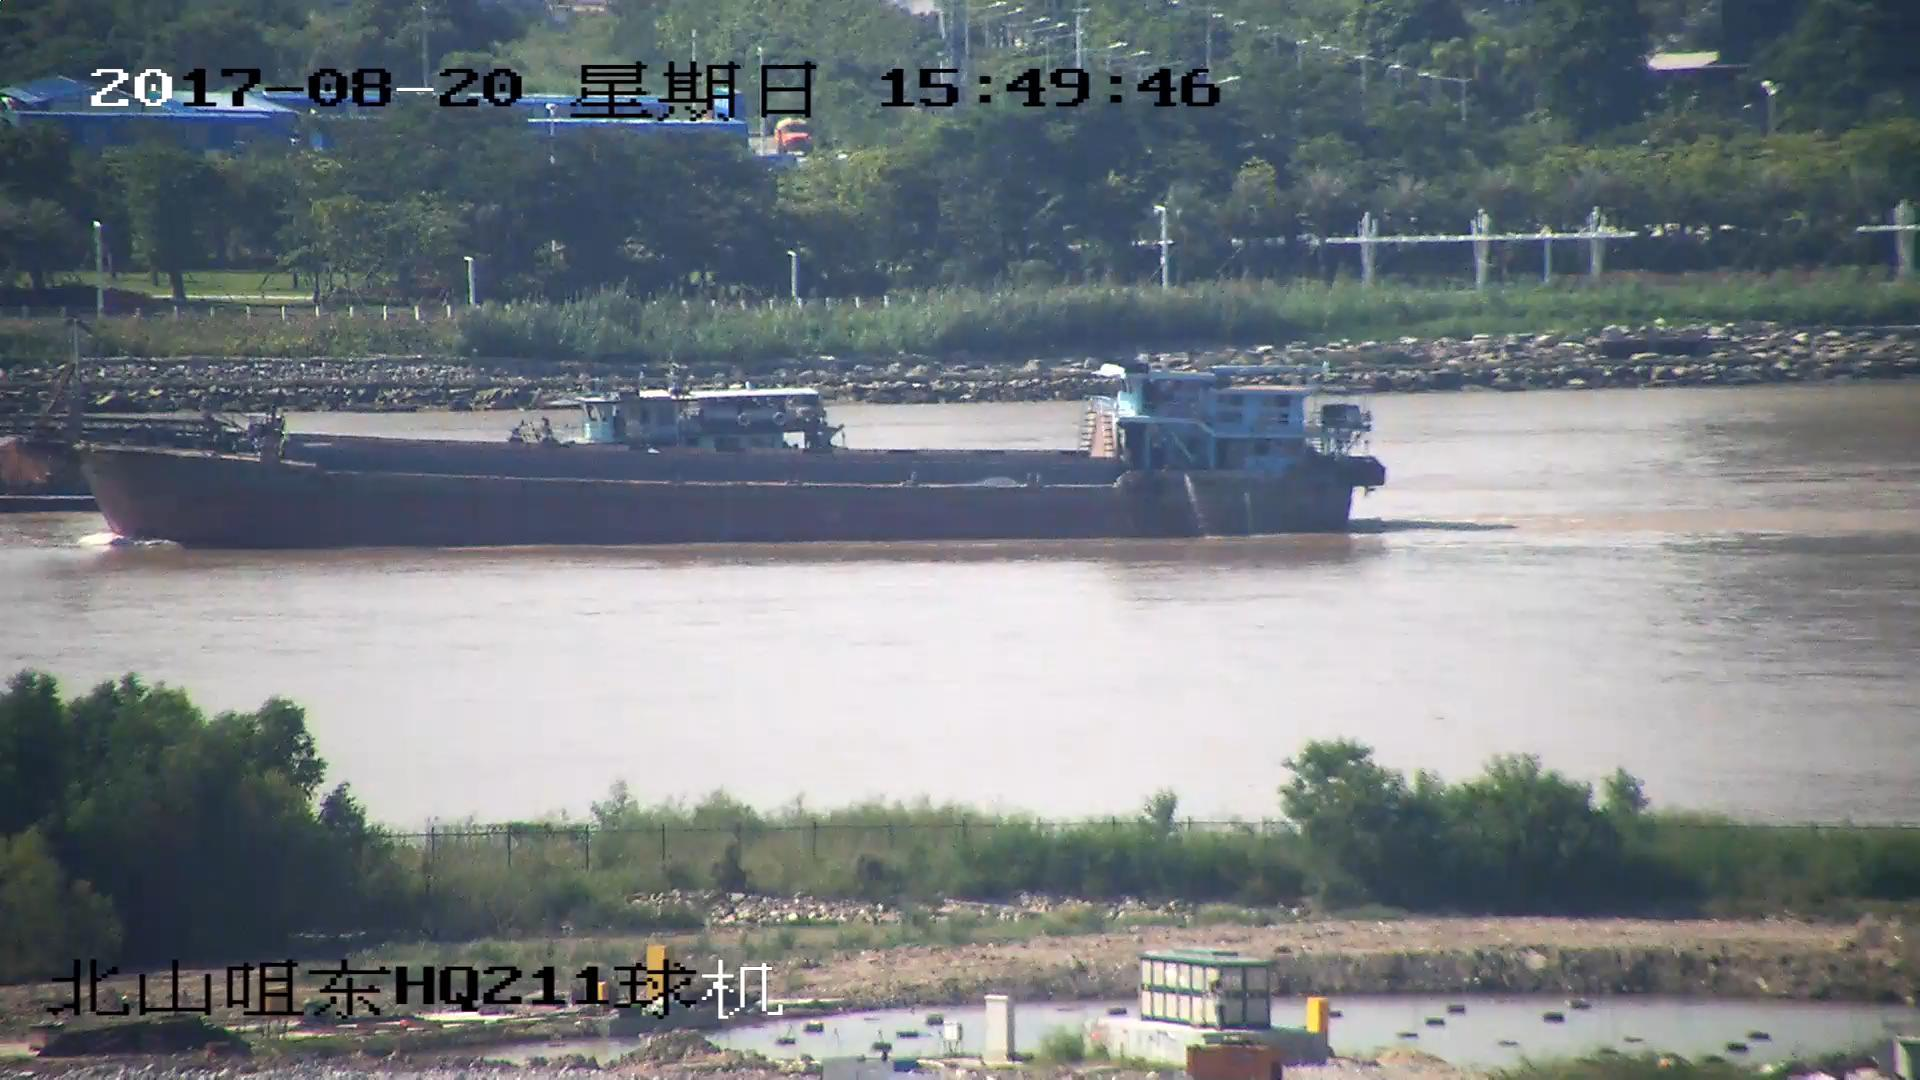Ship: (3, 359, 1375, 553), (3, 386, 845, 516)
